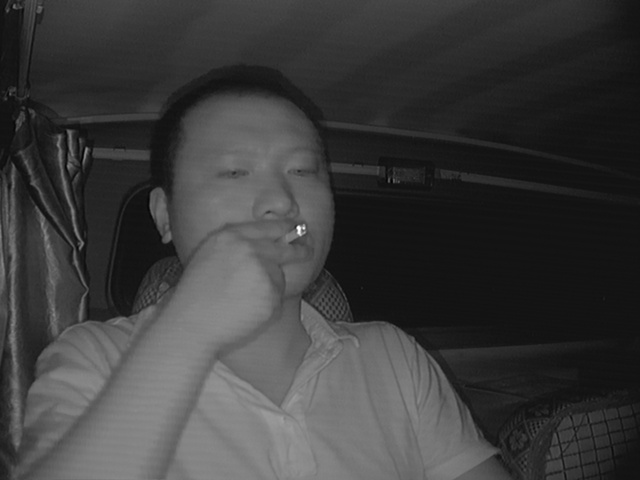hand: (197, 210, 308, 327)
